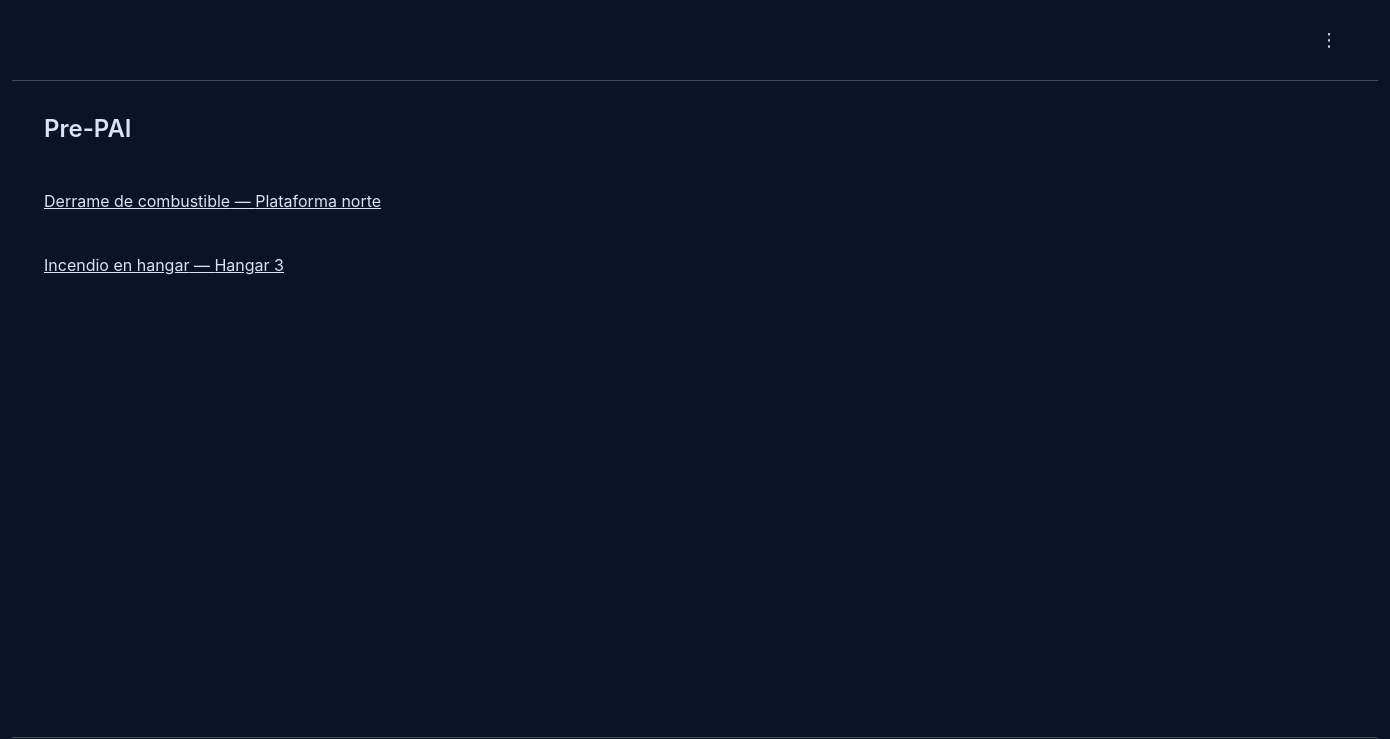
Test case: PrePAIScreen › lista los Pre-PAI y muestra el detalle al seleccionar uno
Expected: the button "Incendio en hangar — Hangar 3" is shown, [44, 241, 284, 289]
Click the button "Derrame de combustible — Plataforma norte".
click(213, 201)  # box [44, 177, 381, 225]
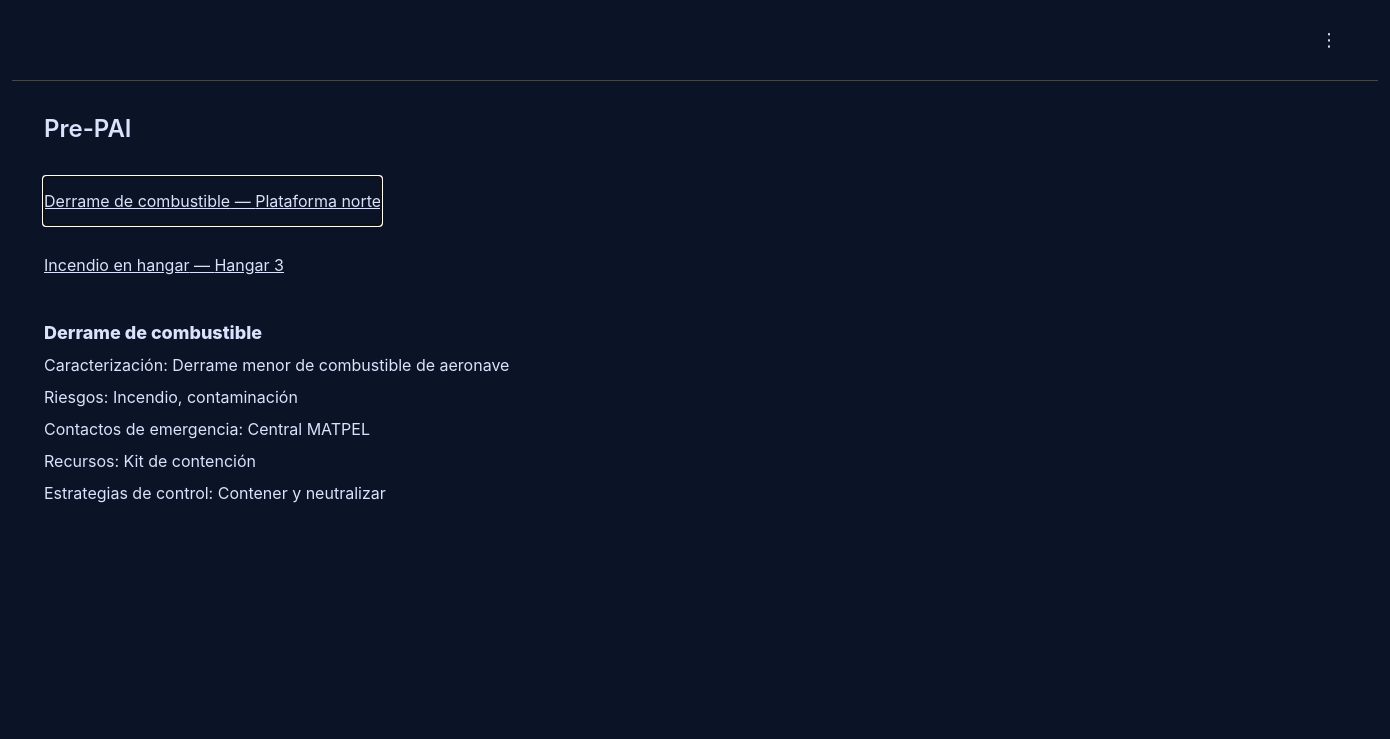
Expected: the element with test id "detalle-pre-pai" shows "Derrame menor de combustible de aeronave", [172, 355, 509, 375]
Expected: the element with test id "detalle-pre-pai" shows "Central MATPEL", [248, 419, 370, 439]
